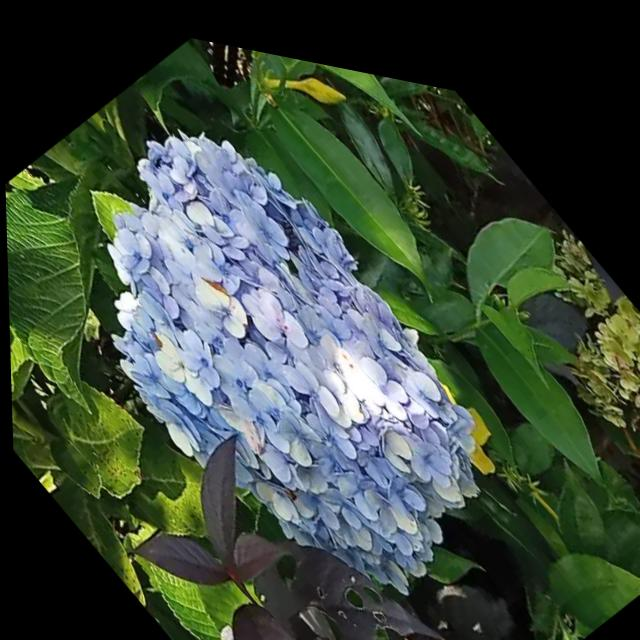Flower: (1, 40, 555, 640)
